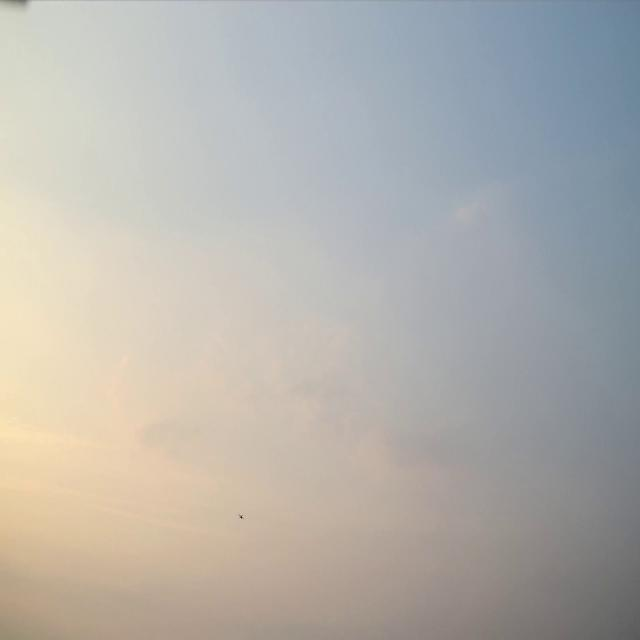drone: (238, 513, 244, 519)
